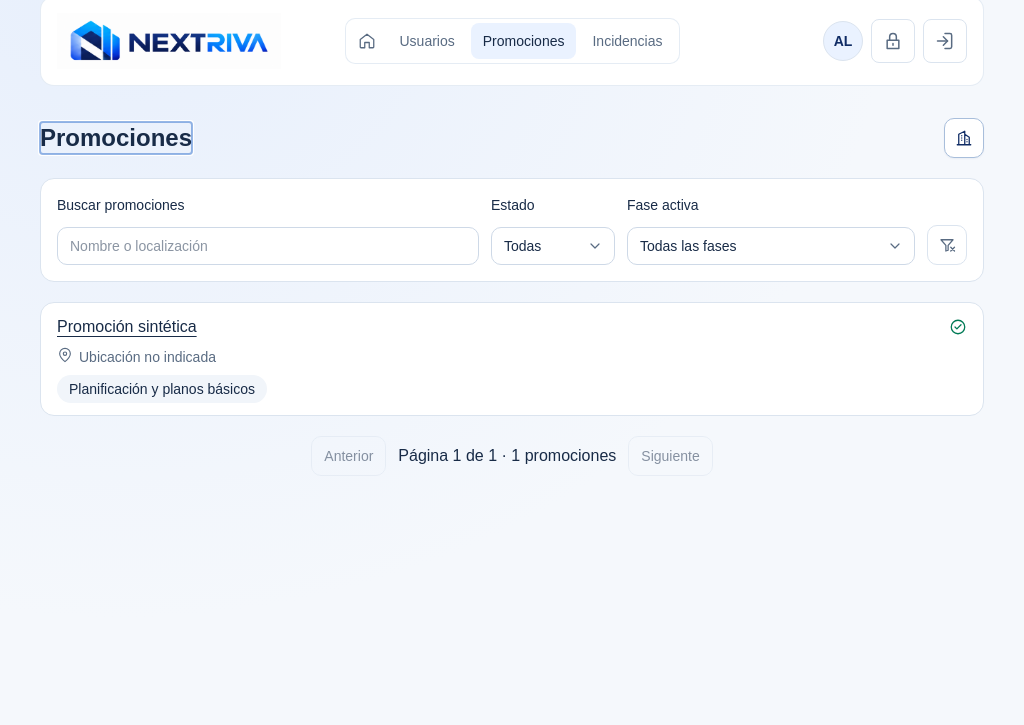
Test: requires one phase, preserves input and focuses the error
Click the button named "Crear promoción".
click(964, 138)  # box [944,118,984,158]
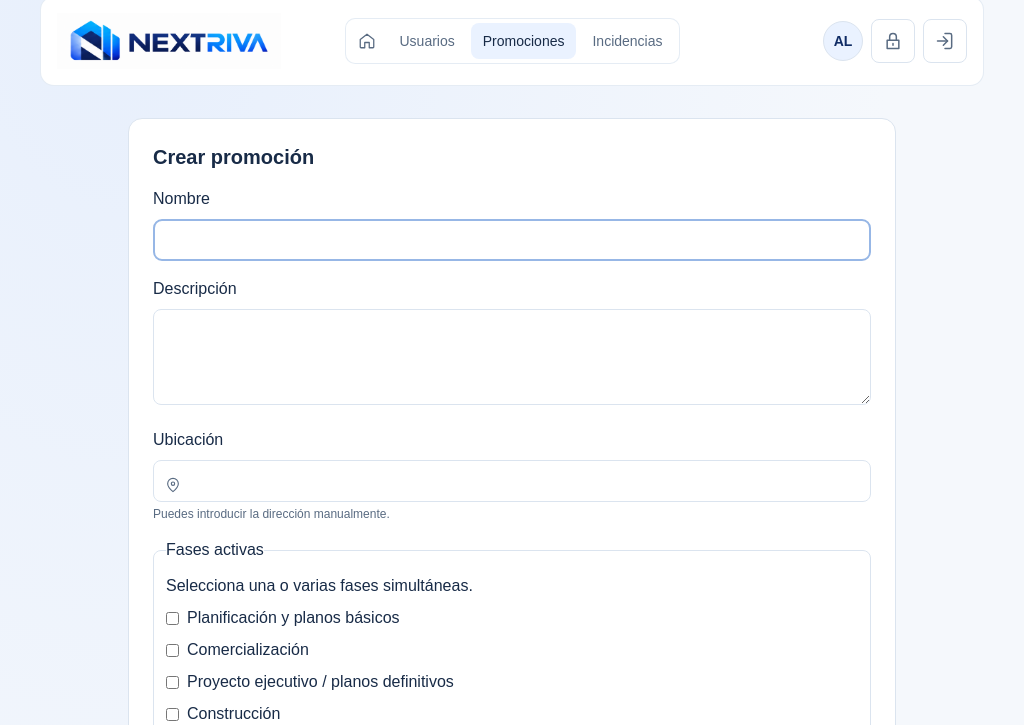
Type "Promoción válida" into the field labelled "Nombre".
click(512, 240); type("Promoción válida")  # box [153,219,871,261]
(page scrolled)
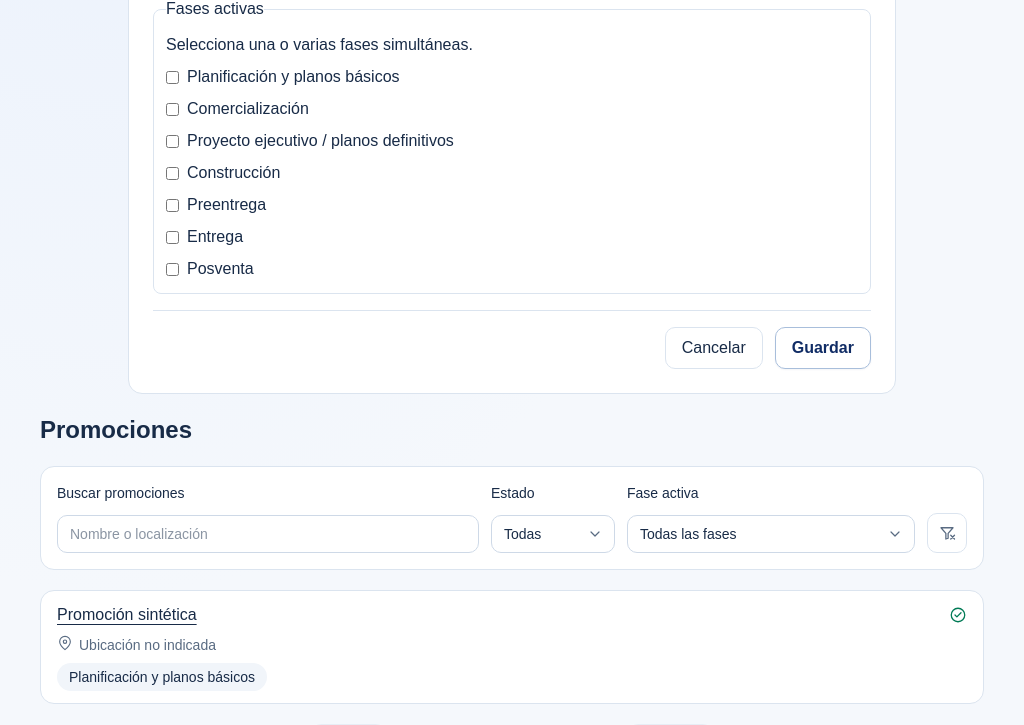
Click the button "Guardar".
click(823, 348)  # box [775,327,871,369]
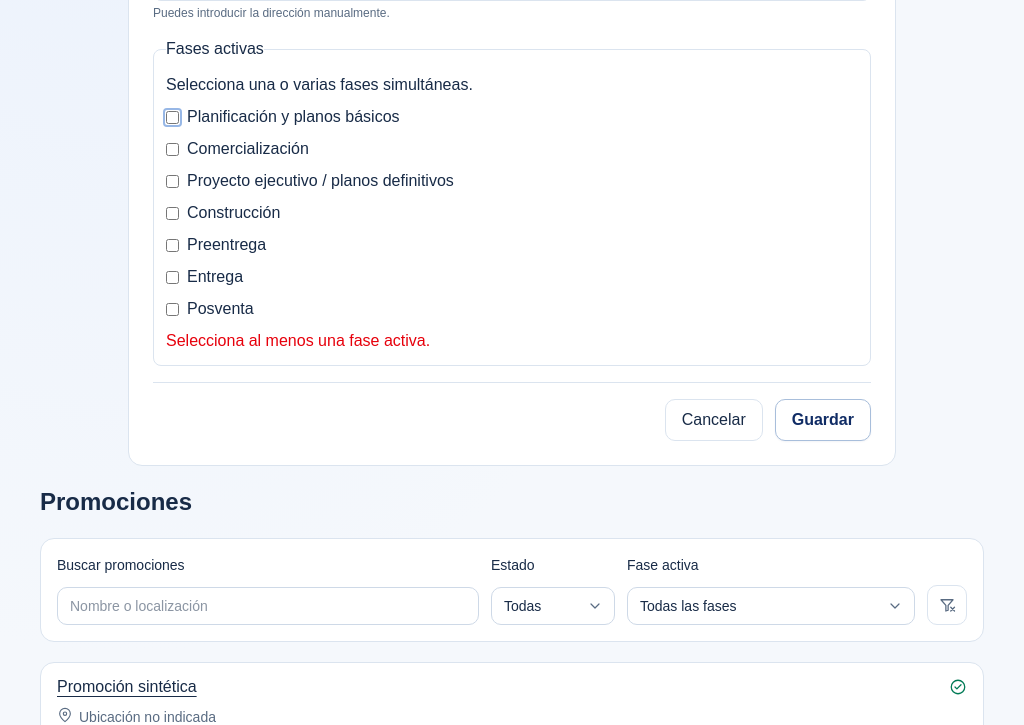
Expected: the text "Selecciona al menos una fase activa." is shown, [166,332,430,349]
